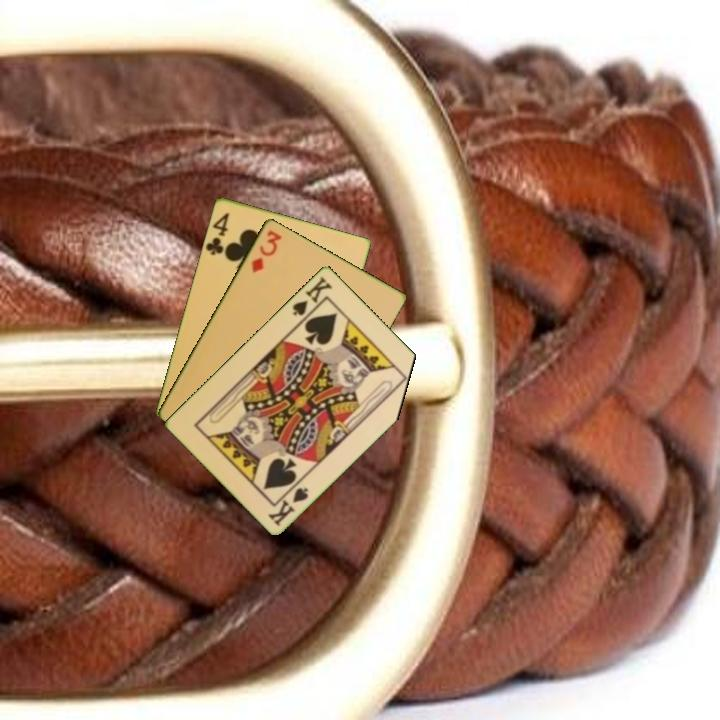3d: (248, 226, 285, 275)
4c: (202, 208, 232, 258)
Ks: (289, 273, 335, 324), (264, 483, 311, 529)
